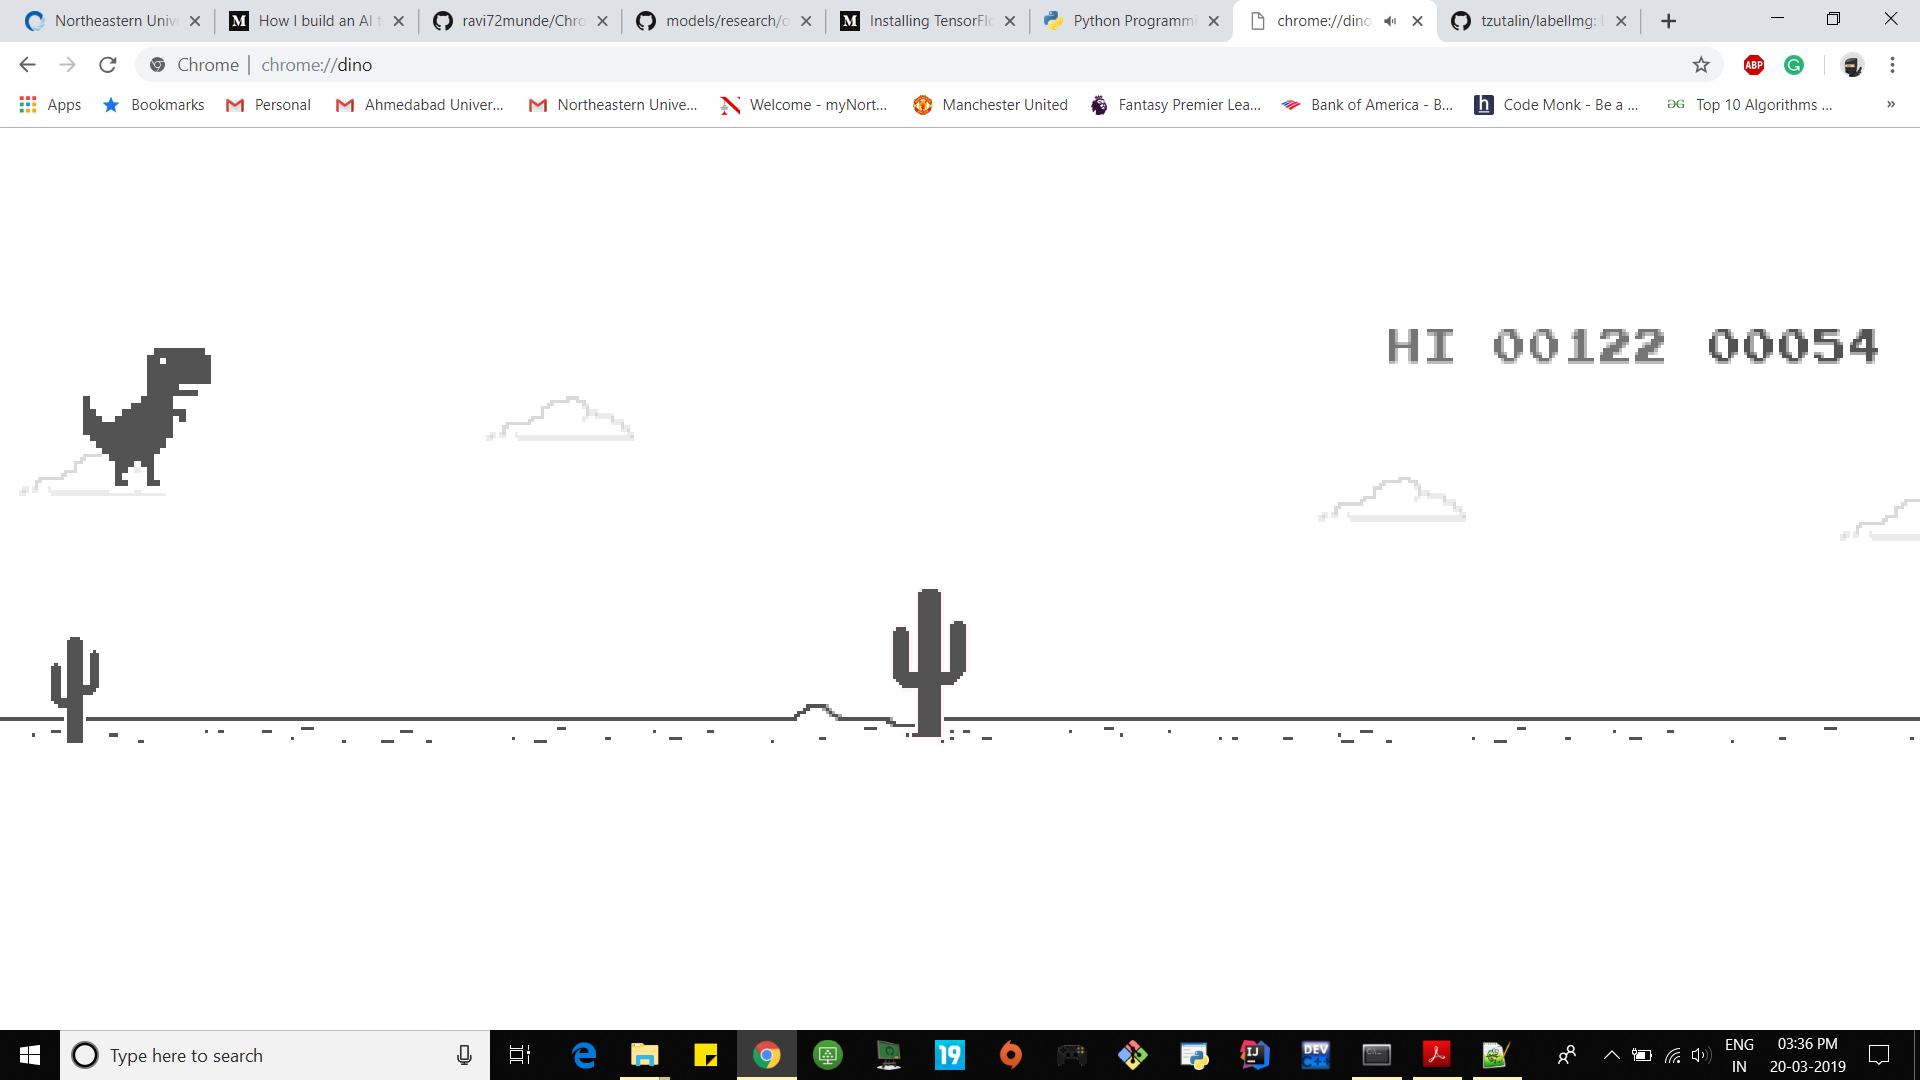cactus-1: (894, 588, 967, 735)
cactus-small: (47, 637, 102, 742)
dino: (80, 345, 212, 488)
